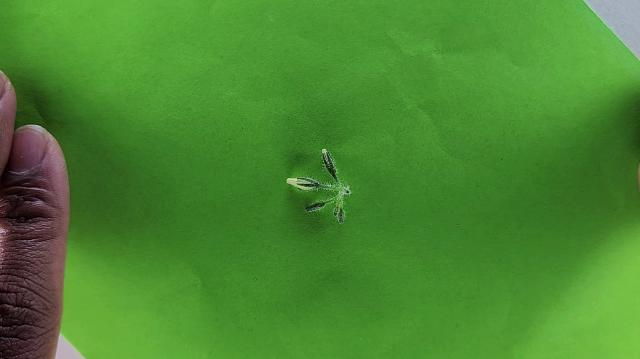Flower Bud: (316, 144, 337, 173), (286, 176, 322, 191), (322, 148, 337, 180), (302, 199, 328, 215)
